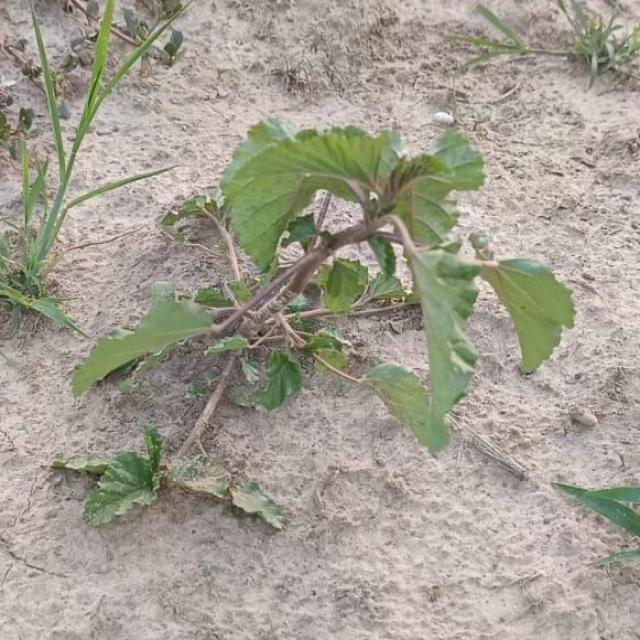weed: (73, 120, 576, 454), (72, 120, 576, 453), (53, 427, 284, 529), (54, 430, 284, 529), (238, 336, 310, 410), (558, 487, 640, 538), (561, 487, 640, 537)
